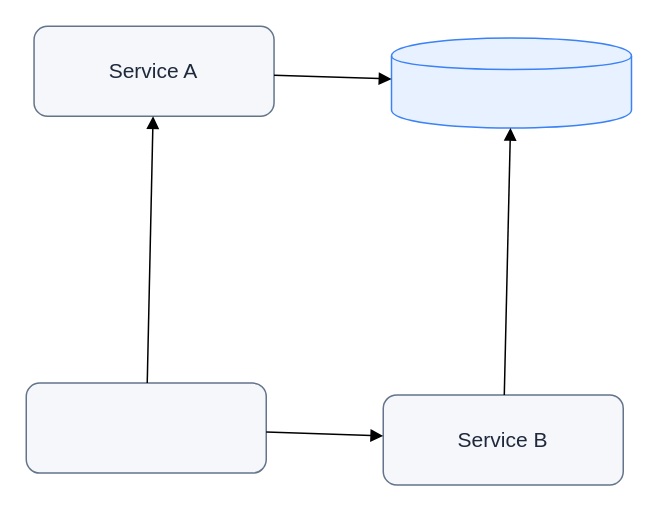
Some shapes in this 659 by 512 pixel diagram are drawn without their labels. The centre of each missing label's shape, as x and y in pixels:
Data Store: pixel 511 82
Gateway: pixel 145 427
